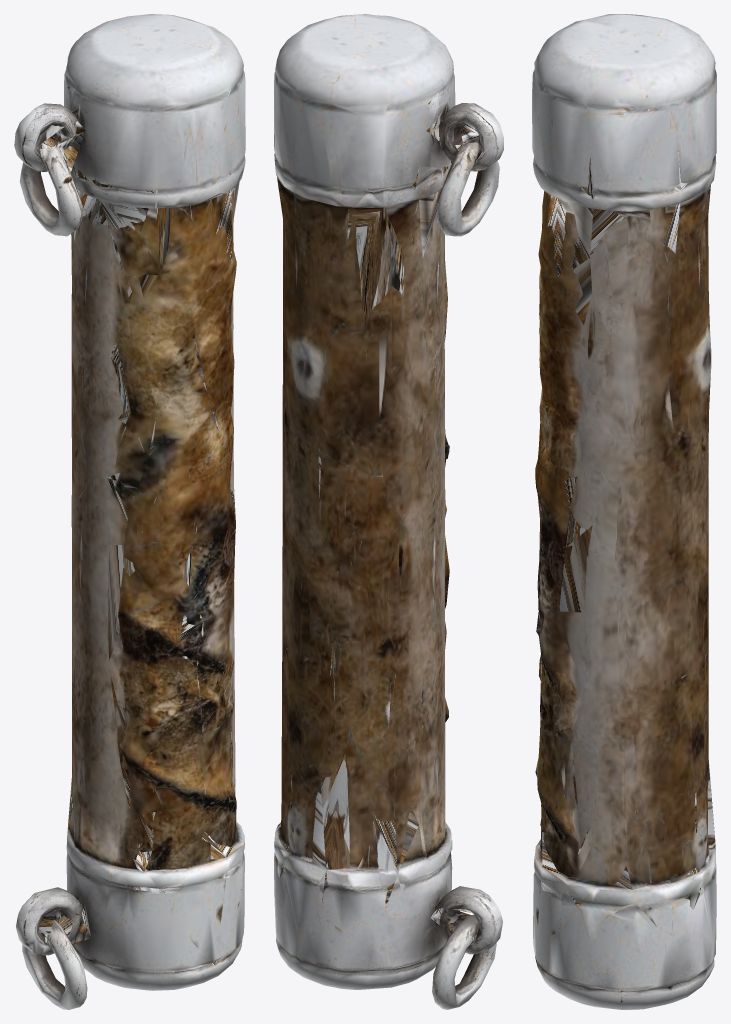
File: e4takrutsm.glb
3 renders of one model, left to right at view 1: azimuth 30°, elevation 25°; view 2: azimuth 150°, elevation 25°; view 3: azimuth 270°, elevation 25°, orthographic. The views are drawn at different scales.
Visible parts, largest first — view 1: e4takrutsm_near, e4takrutsm_far; view 2: e4takrutsm_near, e4takrutsm_far; view 3: e4takrutsm_near, e4takrutsm_far.
Boxes of the visible parts, x1,y1,x2,y2 form: e4takrutsm_near: (14, 14, 245, 1009); e4takrutsm_far: (34, 86, 244, 987); e4takrutsm_near: (274, 14, 503, 1009); e4takrutsm_far: (274, 77, 495, 958); e4takrutsm_near: (532, 14, 716, 1009); e4takrutsm_far: (536, 80, 716, 965).
Size of the model in its own units: 0.2395 by 0.999 by 0.1741.
Materials: 1 (1 with a texture image).
